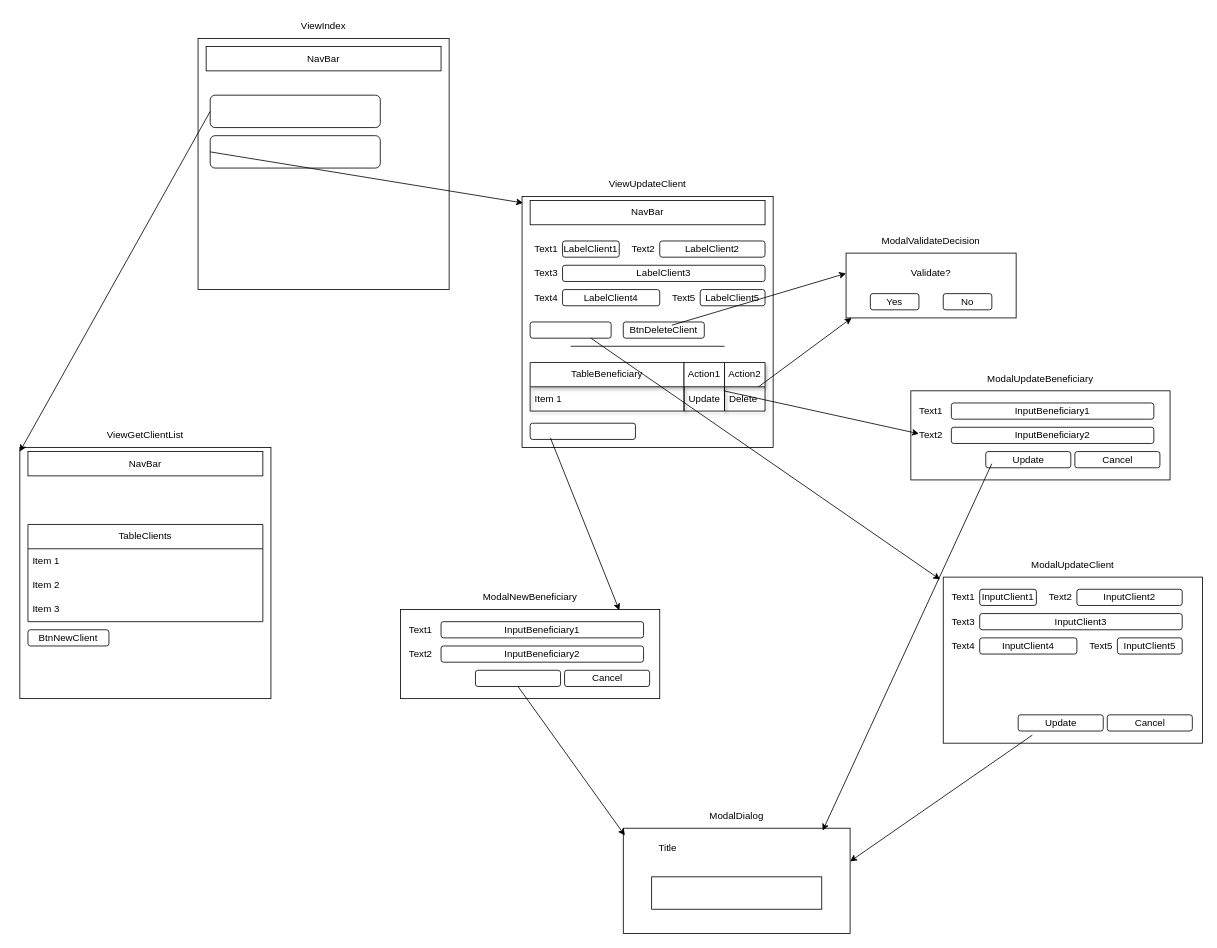
This 1217x948 diagram has some shape labels left out. The shapes that lost their labels are listed below. From the top down, each one's centre as x and y in pixels, then its label:
At (x=294, y=111): "OpenView - ViewGetClientList".
At (x=294, y=151): "OpenView - ViewUpdateClient".
At (x=570, y=329): "BtnUpdateClient".
At (x=582, y=430): "BtnNewBeneficiary".
At (x=518, y=677): "Save".
At (x=736, y=892): "Message".
